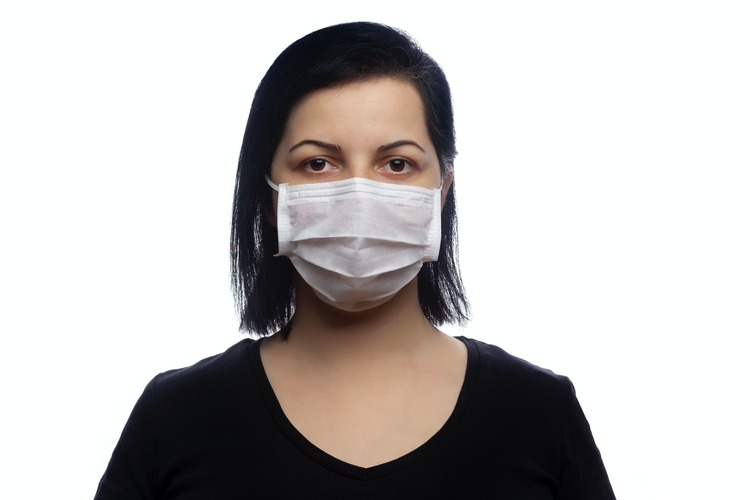with_mask: (272, 119, 435, 307)
